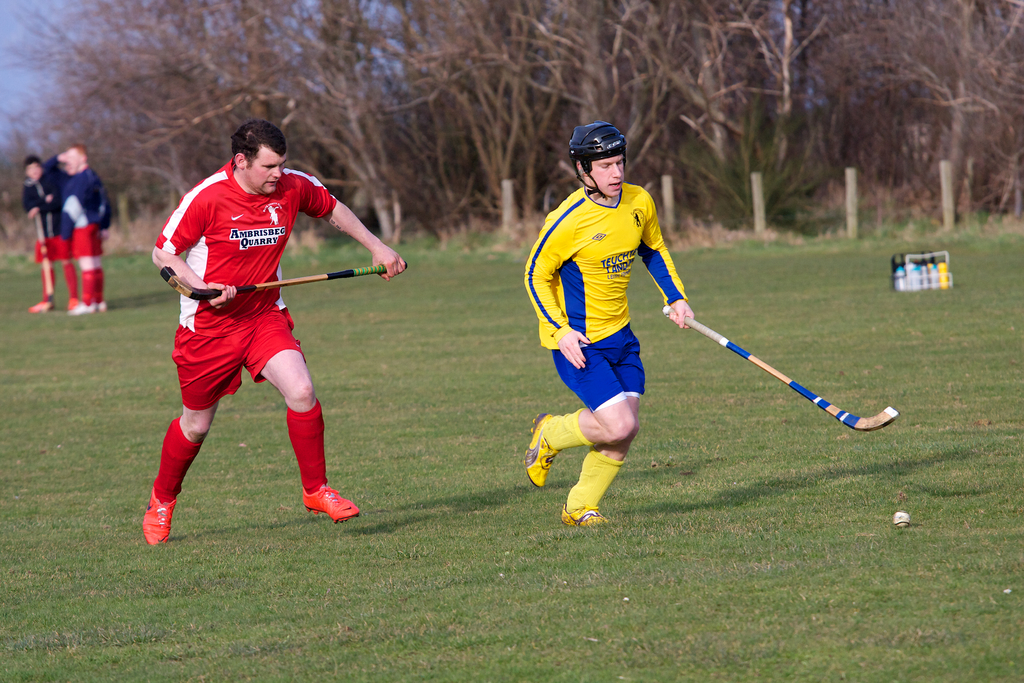Ball: (895, 511, 908, 528)
